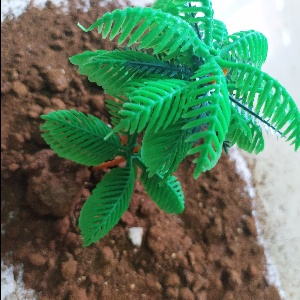plant: (46, 1, 298, 243)
